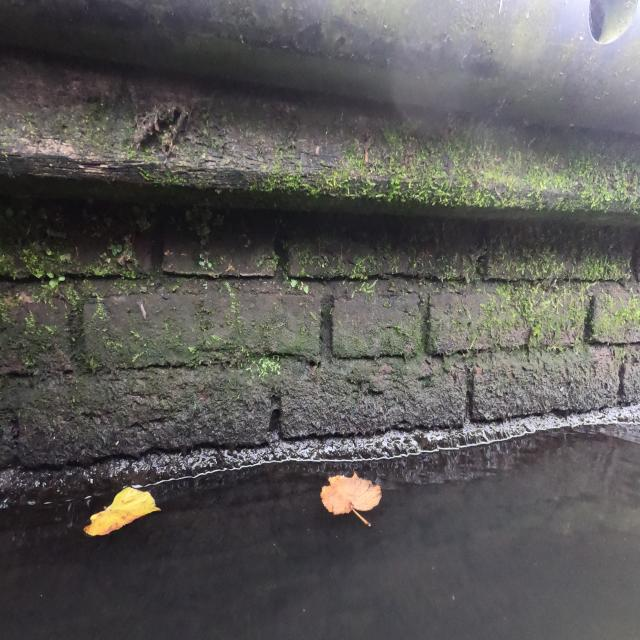water: (0, 422, 638, 632)
